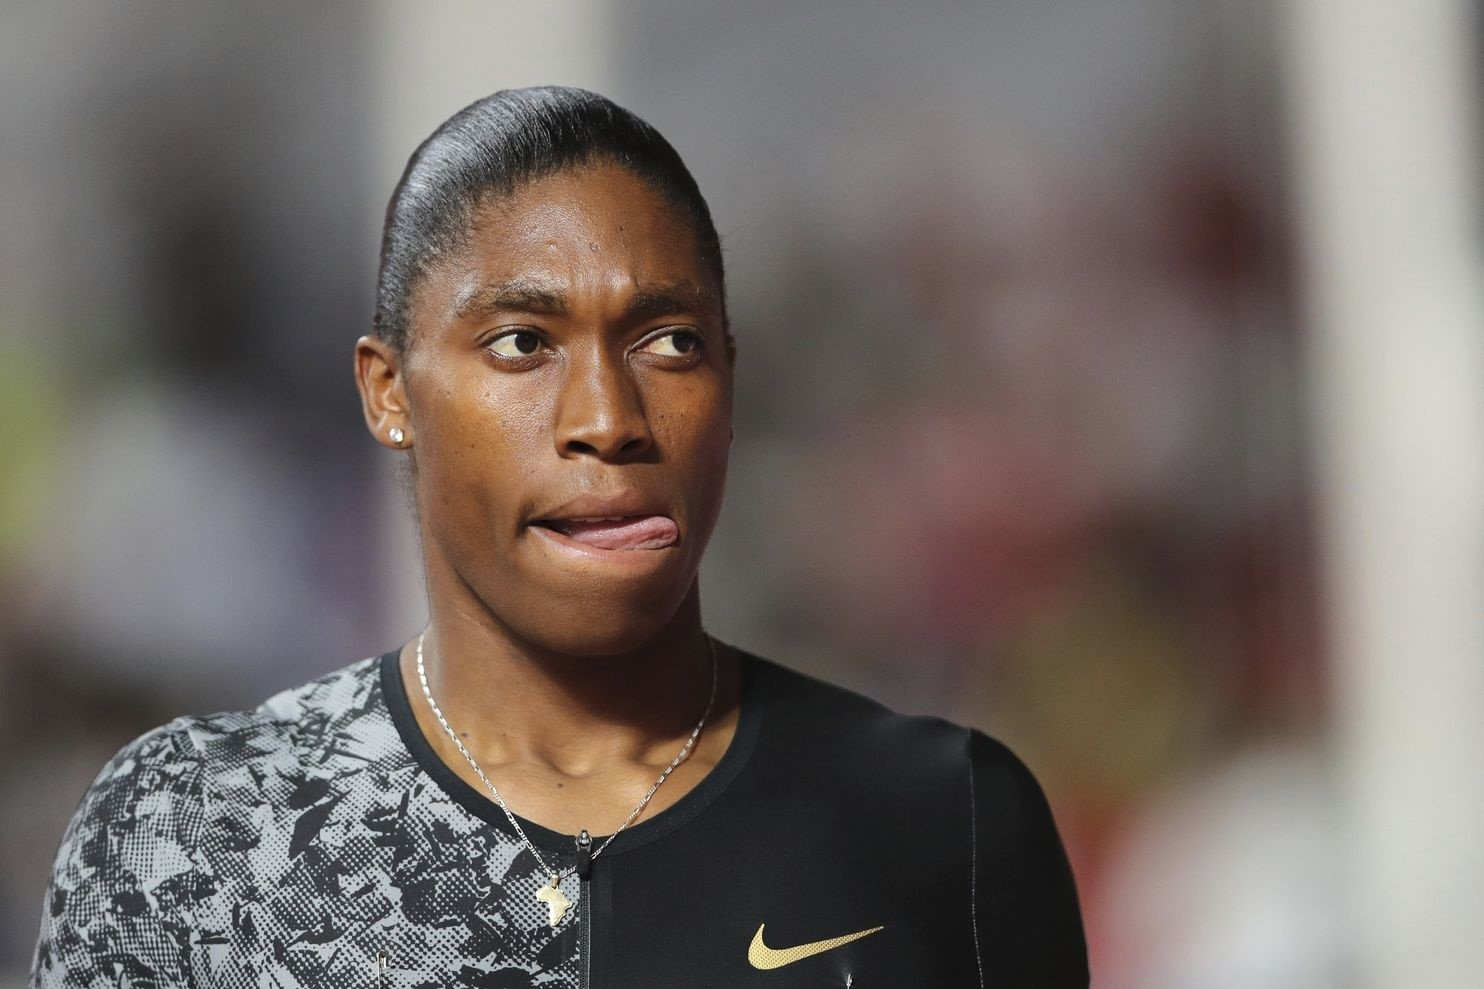face_no_mask: (360, 85, 728, 653)
